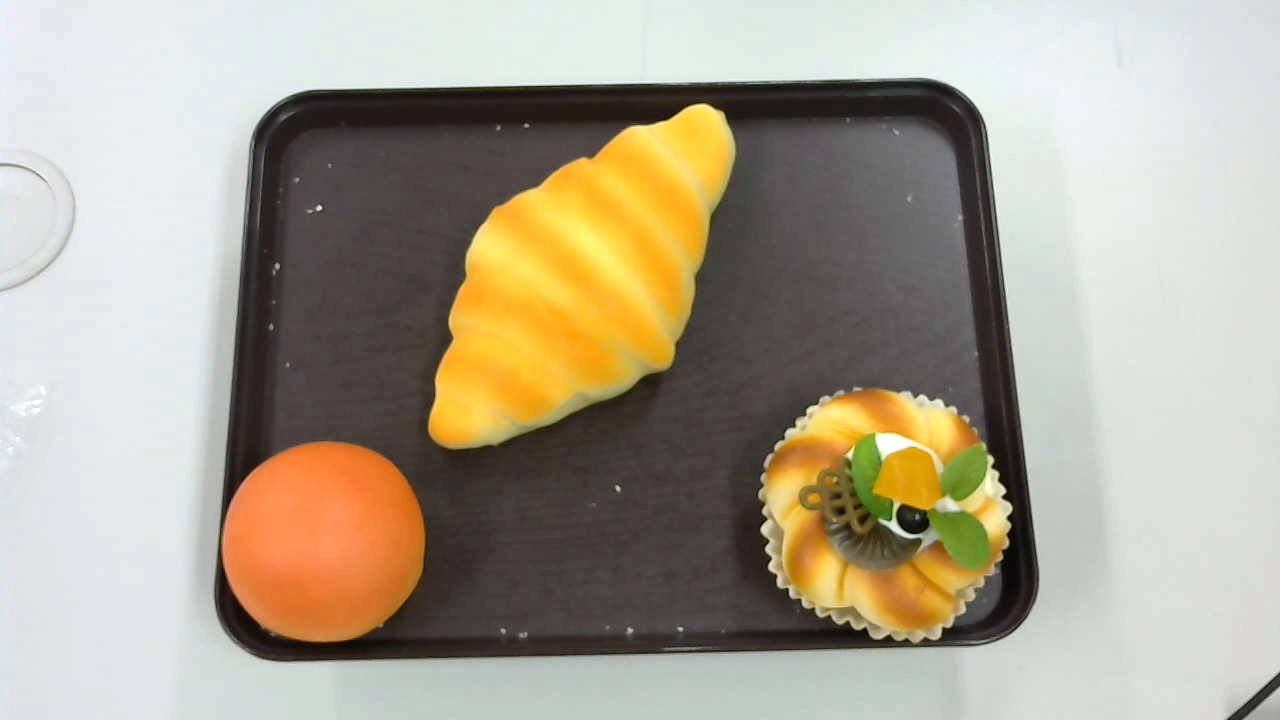bun: (221, 441, 426, 643)
croissant: (427, 101, 736, 450)
fruit tart: (759, 383, 1012, 642)
